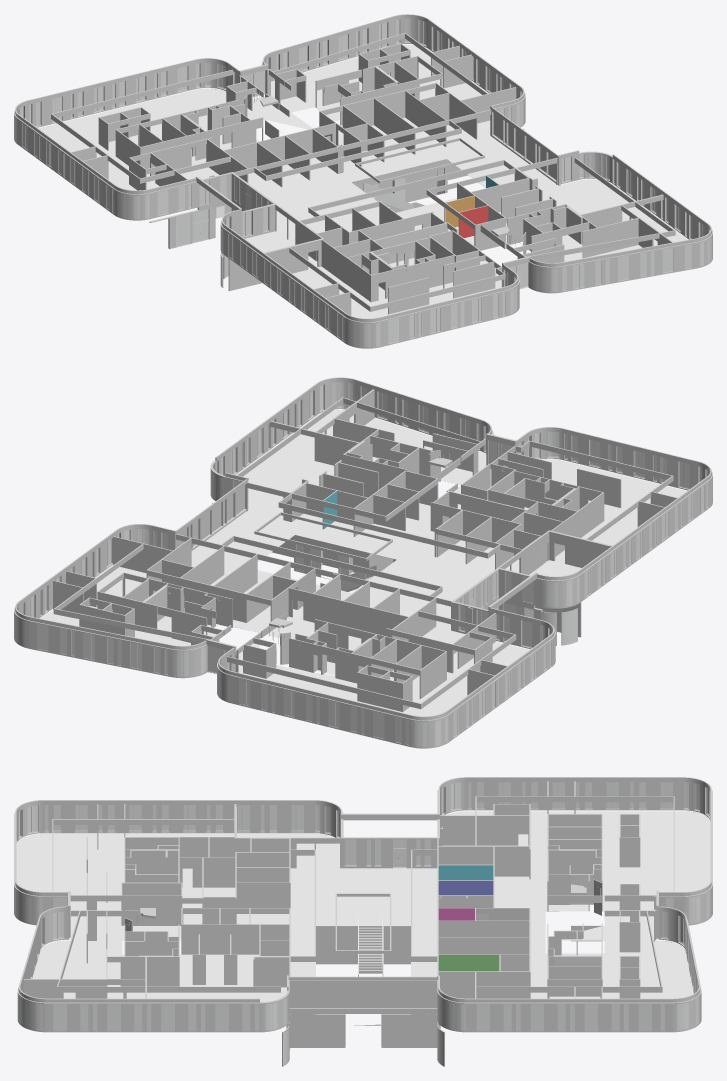
File: small_building.glb
The picture shows the model from 3 angles, top to bottom: view 1: azimuth 30°, elevation 25°; view 2: azimuth 150°, elevation 25°; view 3: azimuth 270°, elevation 25°; orthographic projection. The views are drawn at different scales.
Visible parts, largest first — view 1: Railing_Handledare__7947055_, Basic_Wall_YV_267__2160272_, Basic_Wall_YV_267__2160308_, Basic_Wall_YV_267__2160274_, Basic_Wall_YV_267__2160277_, Basic_Wall_YV_267__2160278_, Basic_Wall_YV_267__2160273_, Basic_Wall_YV_267__2160294_, Basic_Wall_V01e__8448833_, Basic_Wall_V01e__6451444_, Basic_Wall_YV_267__2160276_, Basic_Wall_V09a__6426724_ (+46 smaller); view 2: Railing_Handledare__7947055_, Basic_Wall_YV_267__2160272_, Basic_Wall_YV_267__2160294_, Basic_Wall_YV_267__2160274_, Basic_Wall_V01e__8448833_, Basic_Wall_YV_267__2160277_, Basic_Wall_YV_267__2160278_, Basic_Wall_YV_267__2160273_, Basic_Wall_YV_267__2160308_, Basic_Wall_YV_267__2160276_, Basic_Wall_V01e__6451444_, Basic_Wall_V09a__6426698_ (+53 smaller); view 3: Railing_Handledare__7947055_, Basic_Wall_YV_267__2160274_, Basic_Wall_YV_267__2160278_, Basic_Wall_YV_267__2160276_, Basic_Wall_YV_267__2160273_, Basic_Wall_V01e__6449585_, Basic_Wall_V01g__6258701_, object 20, Basic_Wall_1__Orange__12088442_, object 631, Basic_Wall_V23b__12080695_, Basic_Wall_V21e__6261887_ (+81 smaller).
Part boxes in pixels (<box>): Railing_Handledare__7947055_: <box>38,44,687,318</box>; Basic_Wall_YV_267__2160272_: <box>28,63,195,127</box>; Basic_Wall_YV_267__2160308_: <box>562,242,696,292</box>; Basic_Wall_YV_267__2160274_: <box>224,228,345,342</box>; Basic_Wall_YV_267__2160277_: <box>381,290,506,346</box>; Basic_Wall_YV_267__2160278_: <box>612,158,707,239</box>; Basic_Wall_YV_267__2160273_: <box>17,118,114,214</box>; Basic_Wall_YV_267__2160294_: <box>274,20,393,80</box>; Basic_Wall_V01e__8448833_: <box>223,128,313,168</box>; Basic_Wall_V01e__6451444_: <box>321,83,435,126</box>; Basic_Wall_YV_267__2160276_: <box>428,23,519,98</box>; Basic_Wall_V09a__6426724_: <box>265,128,460,180</box>; Railing_Handledare__7947055_: <box>41,410,686,716</box>; Basic_Wall_YV_267__2160272_: <box>231,675,409,746</box>; Basic_Wall_YV_267__2160294_: <box>30,621,170,676</box>; Basic_Wall_YV_267__2160274_: <box>579,480,709,602</box>; Basic_Wall_V01e__8448833_: <box>312,593,408,636</box>; Basic_Wall_YV_267__2160277_: <box>563,432,697,490</box>; Basic_Wall_YV_267__2160278_: <box>214,387,317,475</box>; Basic_Wall_YV_267__2160273_: <box>448,639,551,742</box>; Basic_Wall_YV_267__2160308_: <box>356,383,480,450</box>; Basic_Wall_YV_267__2160276_: <box>20,533,117,618</box>; Basic_Wall_V01e__6451444_: <box>147,570,270,622</box>; Basic_Wall_V09a__6426698_: <box>278,502,488,558</box>; Railing_Handledare__7947055_: <box>16,811,710,1025</box>; Basic_Wall_YV_267__2160274_: <box>44,804,313,833</box>; Basic_Wall_YV_267__2160278_: <box>47,1002,259,1032</box>; Basic_Wall_YV_267__2160276_: <box>467,1002,671,1032</box>; Basic_Wall_YV_267__2160273_: <box>467,781,682,810</box>; Basic_Wall_V01e__6449585_: <box>440,815,529,845</box>; Basic_Wall_V01g__6258701_: <box>181,924,260,954</box>; object 20: <box>341,837,437,868</box>; Basic_Wall_1__Orange__12088442_: <box>438,937,529,954</box>; object 631: <box>438,921,529,937</box>; Basic_Wall_V23b__12080695_: <box>122,895,181,925</box>; Basic_Wall_V21e__6261887_: <box>236,882,289,907</box>.
Size of the model in its own units: 52.77 by 8.19 by 69.87.
